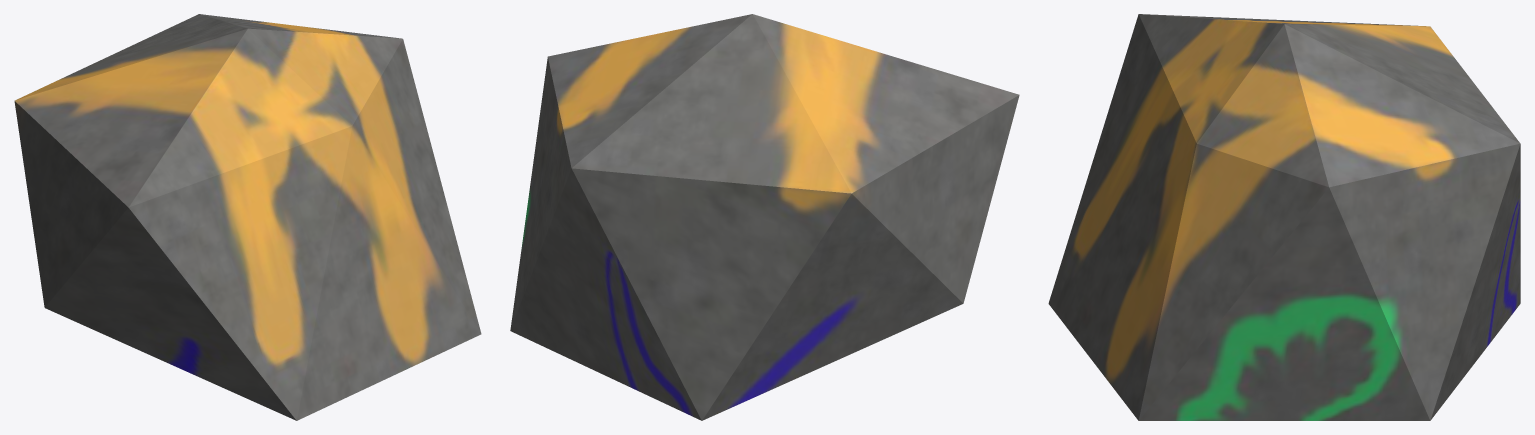
The model's file is small rune with markings.glb.
The picture shows the model from 3 angles, left to right: view 1: azimuth 30°, elevation 25°; view 2: azimuth 150°, elevation 25°; view 3: azimuth 270°, elevation 25°; orthographic projection. The views are drawn at different scales.
Visible parts, largest first — view 1: Icosphere; view 2: Icosphere; view 3: Icosphere.
Part boxes in pixels (x1=…): Icosphere: x1=14, y1=14, x2=481, y2=420; Icosphere: x1=510, y1=14, x2=1019, y2=420; Icosphere: x1=1048, y1=14, x2=1520, y2=420.
Size of the model in its own units: 1.67 by 1.45 by 1.7.
Materials: 1 (1 with a texture image).
